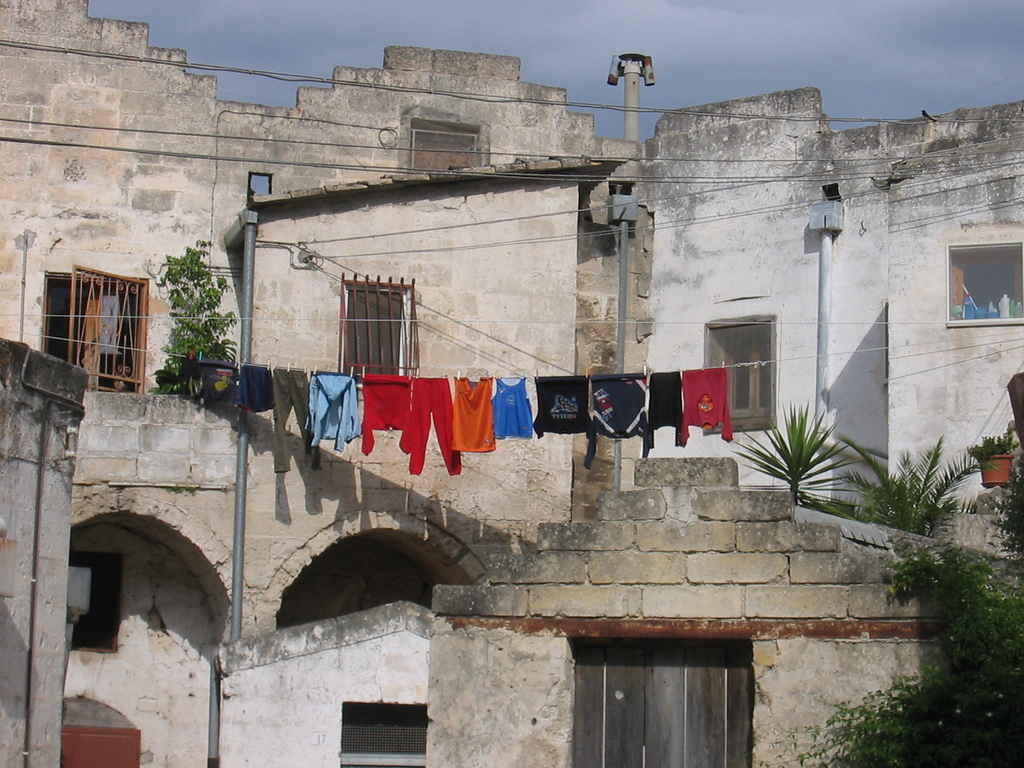door: (578, 641, 747, 768)
